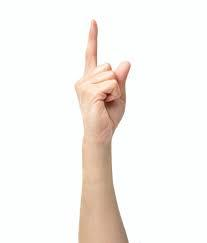Pointing-Up: (76, 16, 131, 158)
